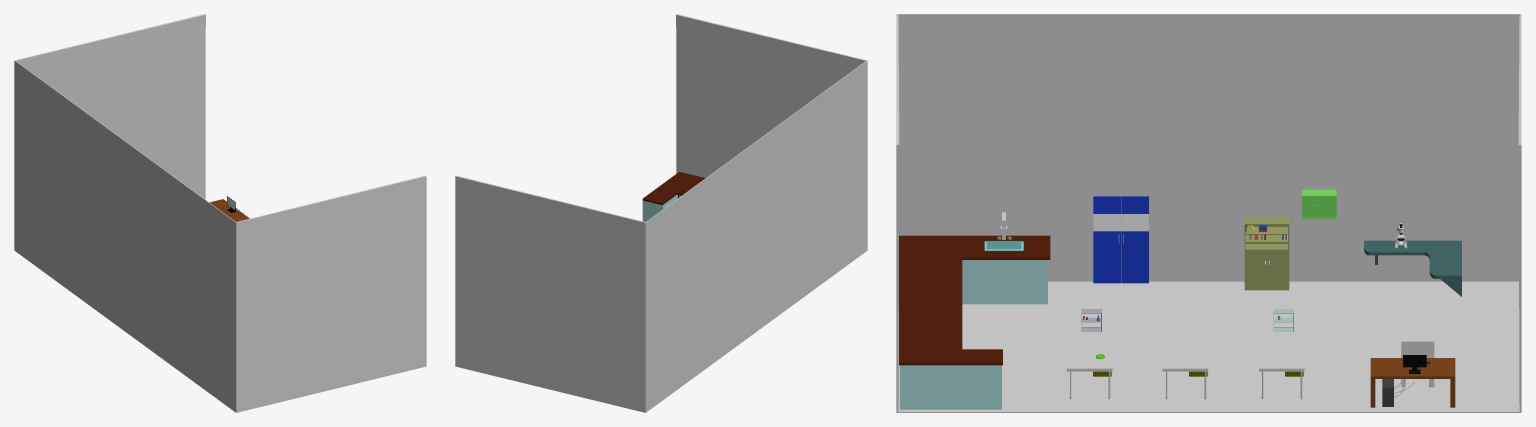
File: laboratory3.glb
3 views of the same model, side by side, from view 1: azimuth 30°, elevation 25°; view 2: azimuth 150°, elevation 25°; view 3: azimuth 270°, elevation 25° (orthographic). The views are drawn at different scales.
Parts seen in each view (by area): view 1: Cube; view 2: Cube, Cube.053; view 3: Cube, Cube.053, Cube.001, Cube.002, Cube.107, Cube.003, Cube.056, Cube.057, Cube.011, Plane.004, Sphere.002, Cube.082 (+2 smaller).
Part boxes in pixels (<box>): Cube: <box>14,14,426,412</box>; Cube: <box>455,14,867,412</box>; Cube.053: <box>642,171,705,221</box>; Cube: <box>896,14,1521,412</box>; Cube.053: <box>899,235,1050,409</box>; Cube.001: <box>1121,196,1148,283</box>; Cube.002: <box>1093,196,1120,283</box>; Cube.107: <box>1162,323,1208,371</box>; Cube.003: <box>1364,240,1461,278</box>; Cube.056: <box>1066,323,1112,371</box>; Cube.057: <box>1259,323,1304,371</box>; Cube.011: <box>1370,358,1455,407</box>; Plane.004: <box>1244,217,1289,290</box>; Sphere.002: <box>1302,189,1336,218</box>; Cube.082: <box>1244,249,1267,289</box>.
Bounding box in the file's own units: 26.4 × 25.33 × 53.3.
